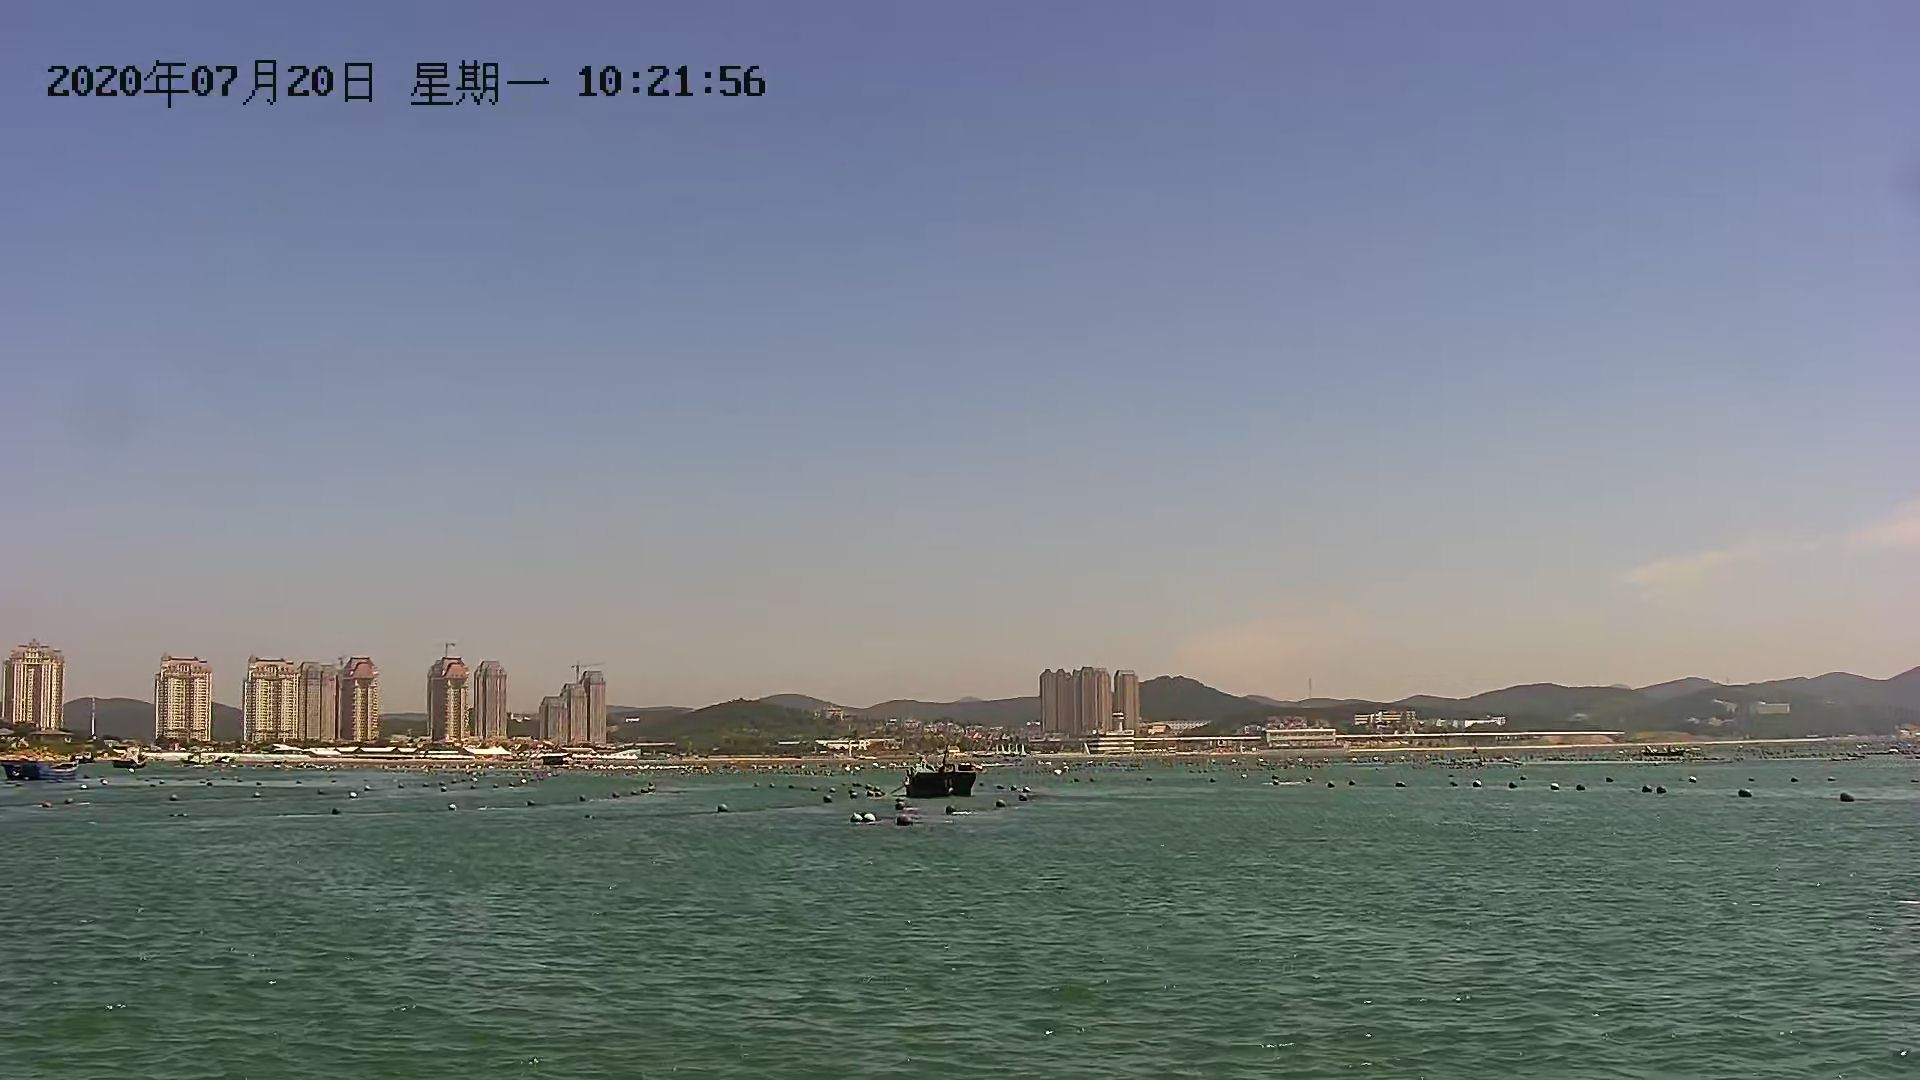ball: (890, 811, 920, 829)
boat: (901, 752, 977, 799), (1, 756, 83, 789)
